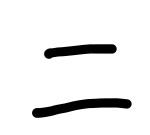eqv: (30, 41, 132, 117)
